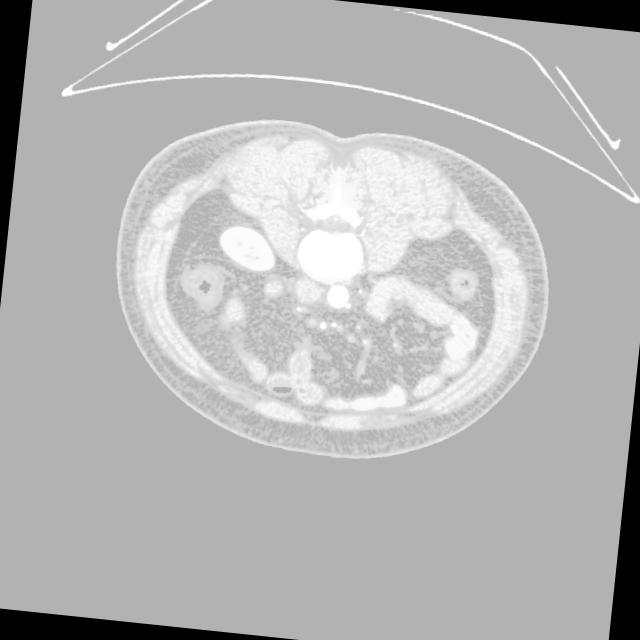NORMAL: (94, 95, 562, 475)
